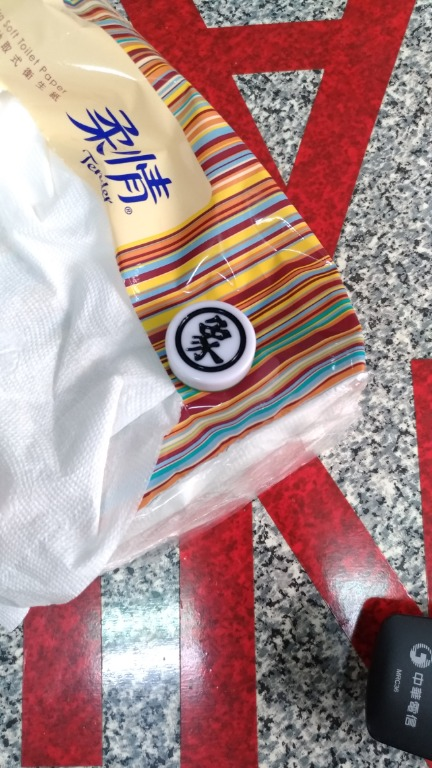b-elephant: (150, 299, 280, 404)
